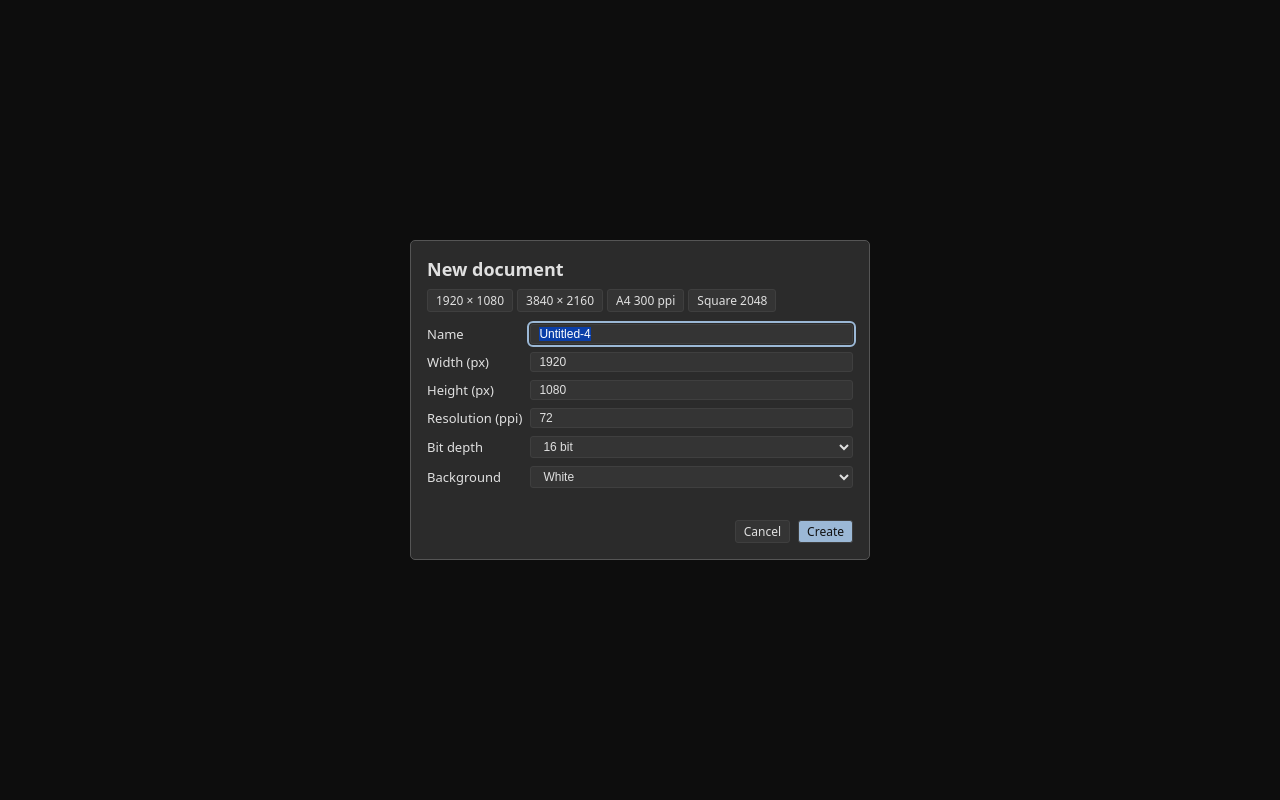
Test: NewDocumentDialog › disables Create and shows the message for an invalid value
Replace the text in the number field labelled "Width (px)" with "0": coordinates (692, 362) 530,352 -> 853,372
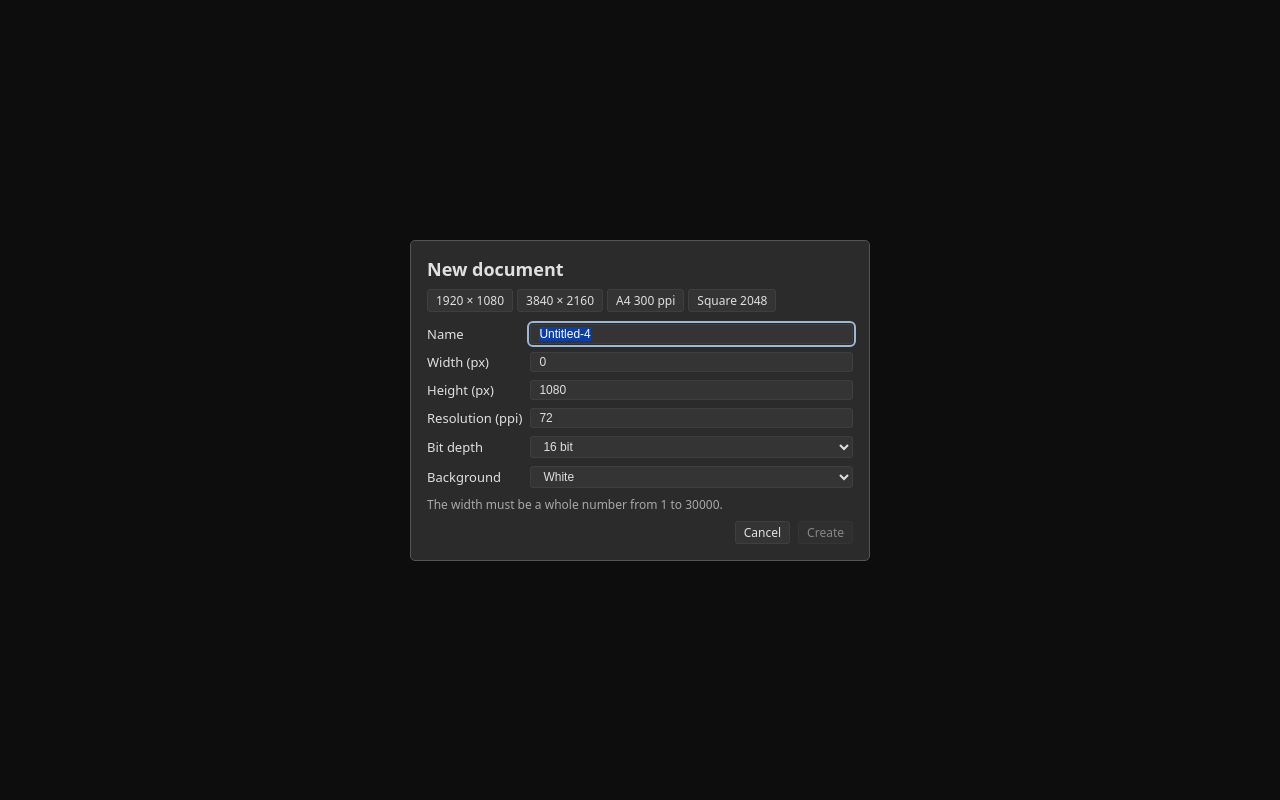
Result: the button "Create" is disabled at 798,520 -> 853,544
Result: the message with test id "newdoc-problem" shows "width" at 427,496 -> 723,512
